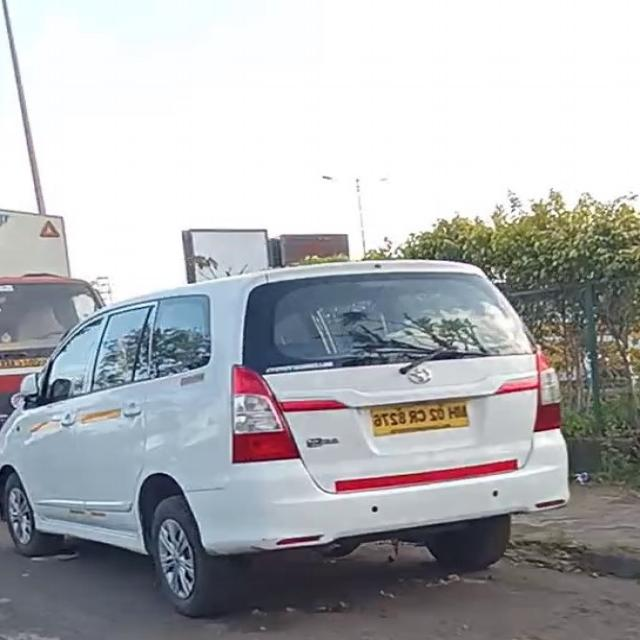license_plate: (365, 392, 472, 443)
